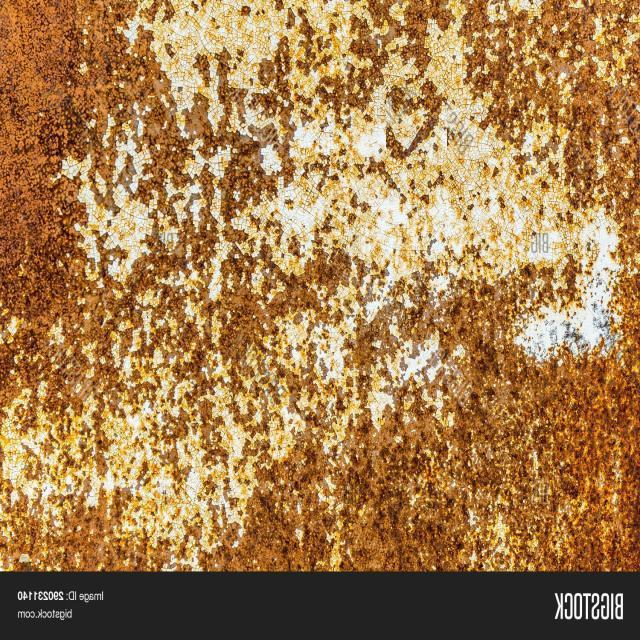Corrosion: (353, 302, 640, 571), (0, 1, 159, 328)
